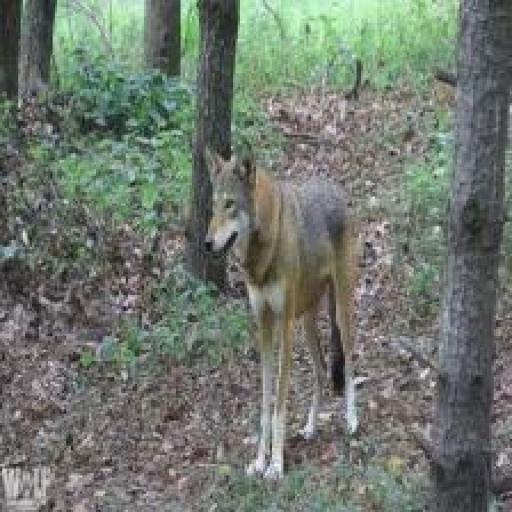wolf: (190, 132, 378, 479)
